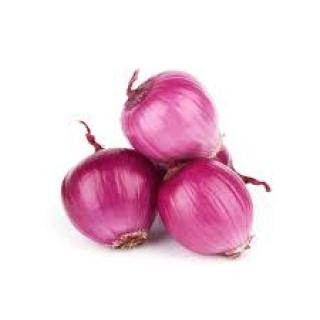Bawang Merah: (59, 119, 161, 251), (120, 67, 244, 166)
